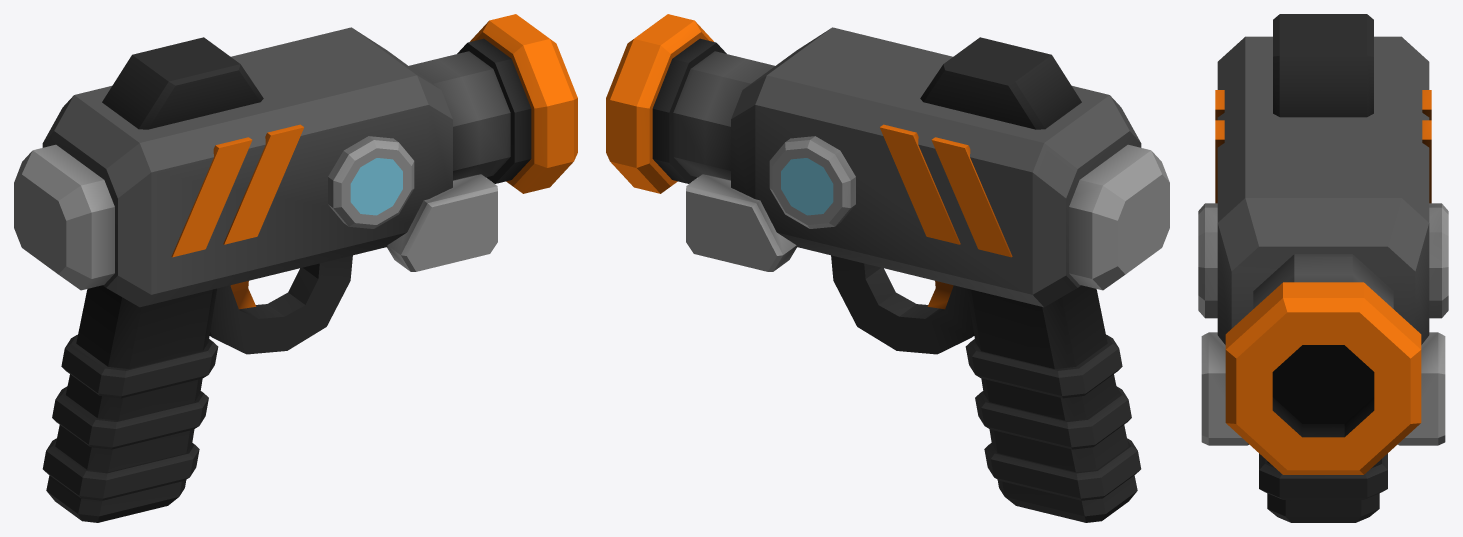
The model's file is pistol.glb.
3 views of the same model, side by side, from view 1: azimuth 30°, elevation 25°; view 2: azimuth 150°, elevation 25°; view 3: azimuth 270°, elevation 25° (orthographic). The views are drawn at different scales.
Visible parts, largest first — view 1: pistol; view 2: pistol; view 3: pistol.
Part boxes in pixels (x1,y1,x2,y2): pistol: [14, 14, 577, 522]; pistol: [606, 14, 1169, 522]; pistol: [1198, 14, 1448, 522].
Size of the model in its own units: 0.3 by 0.242 by 0.109.
1 material, 1 textured.
